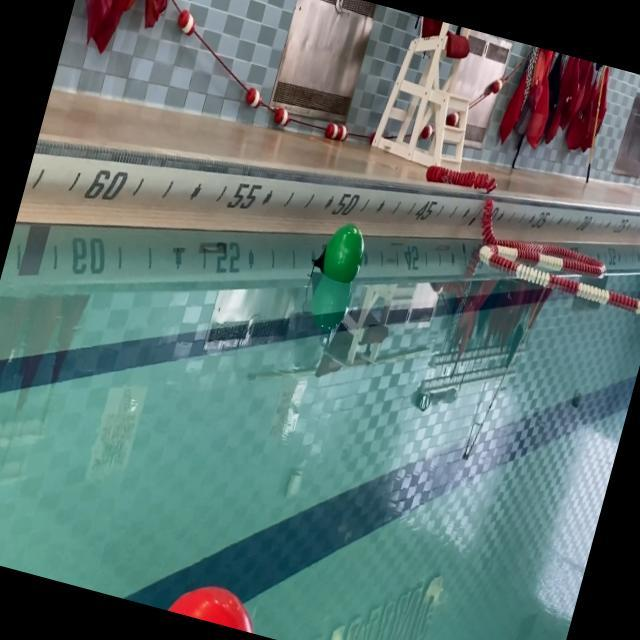buoy: (167, 577, 260, 633), (308, 218, 369, 290)
